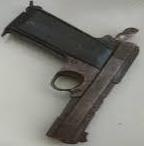gun: (1, 1, 144, 146)
